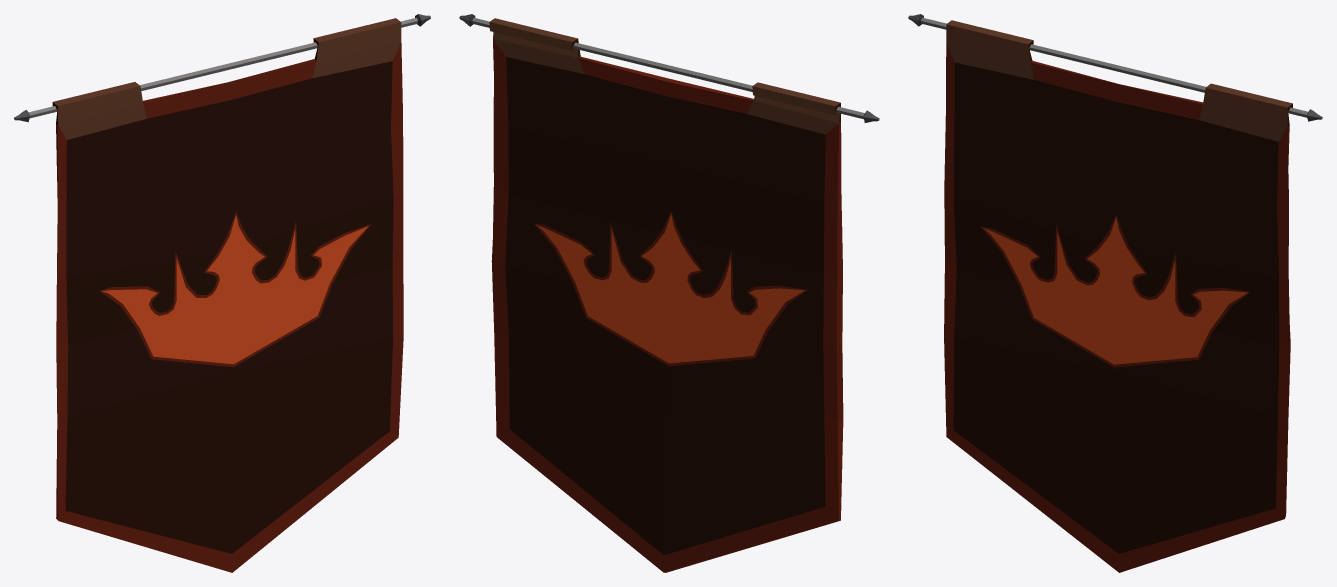
File: Banner_Red_02.glb
The picture shows the model from 3 angles, left to right: view 1: azimuth 30°, elevation 25°; view 2: azimuth 150°, elevation 25°; view 3: azimuth 330°, elevation 25°; orthographic projection.
Parts seen in each view (by area): view 1: Banner_Red_02; view 2: Banner_Red_02; view 3: Banner_Red_02.
Part boxes in pixels (x1,y1,x2,y2): Banner_Red_02: (14,14,430,572); Banner_Red_02: (459,14,879,572); Banner_Red_02: (908,14,1322,572).
Size of what is drawn, in the model's own units: 1.89 by 2.22 by 0.0762.
Materials: 1 (1 with a texture image).
